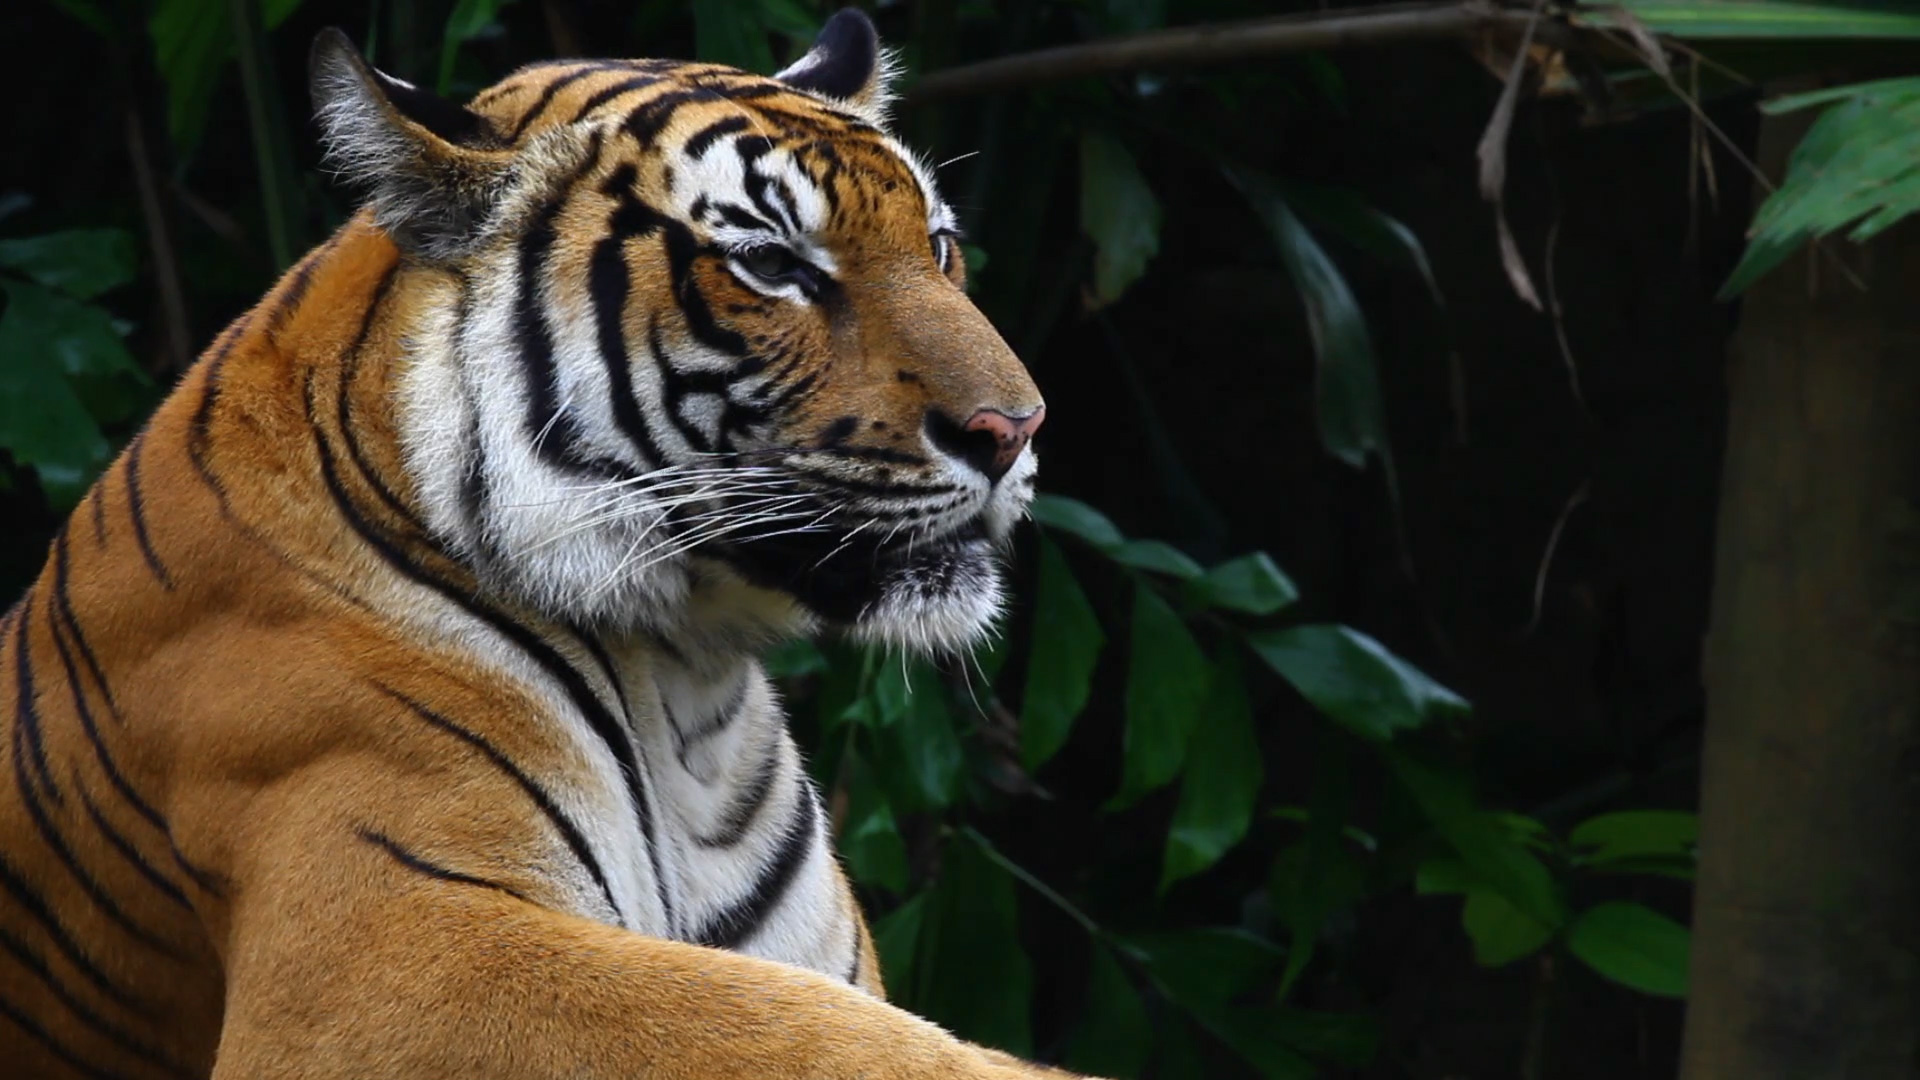Tiger: (44, 30, 1013, 1080)
